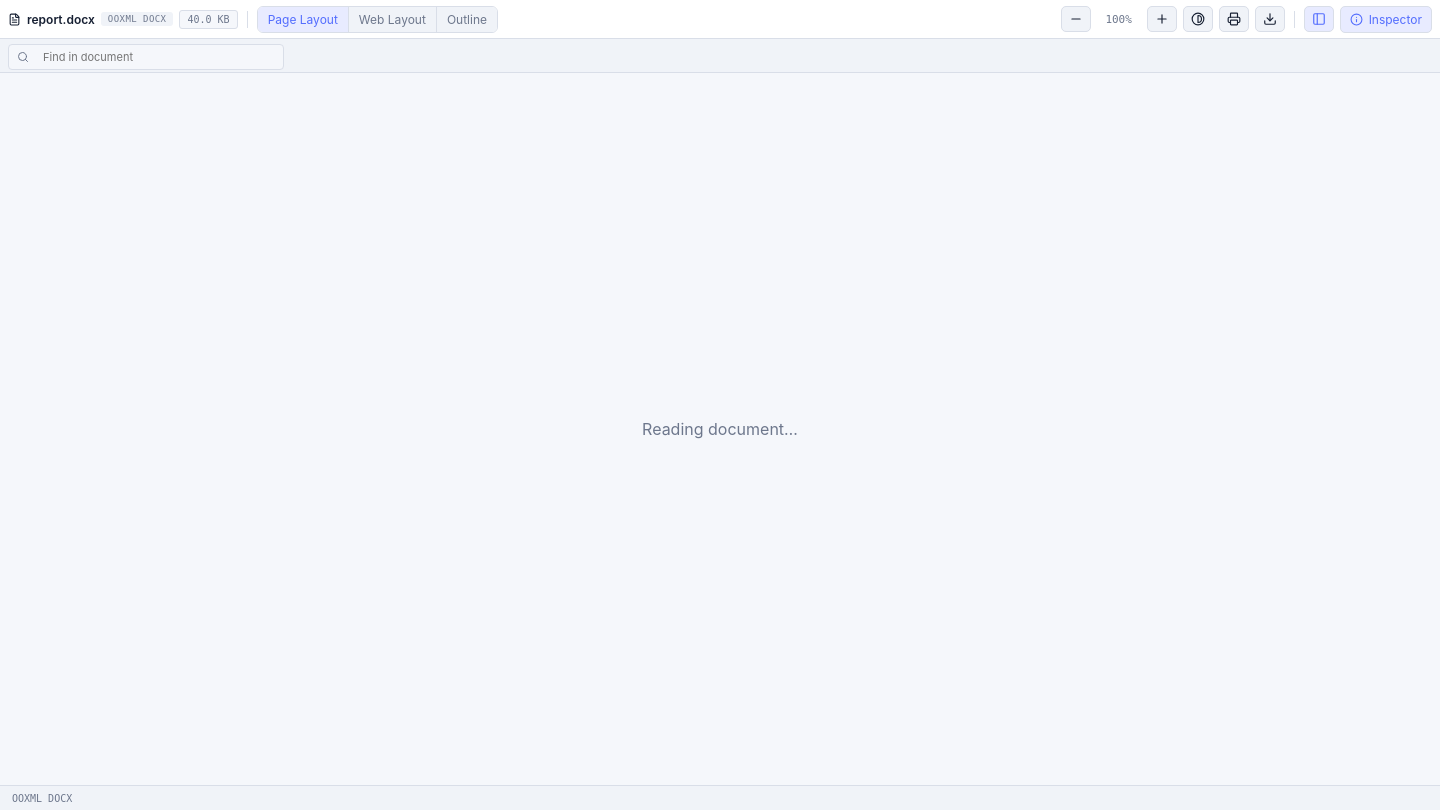
document viewer › switches to the outline layout and back to the page
The image size is (1440, 810).
Click the button "Outline" at coordinates (466, 19), box [436, 6, 497, 32]
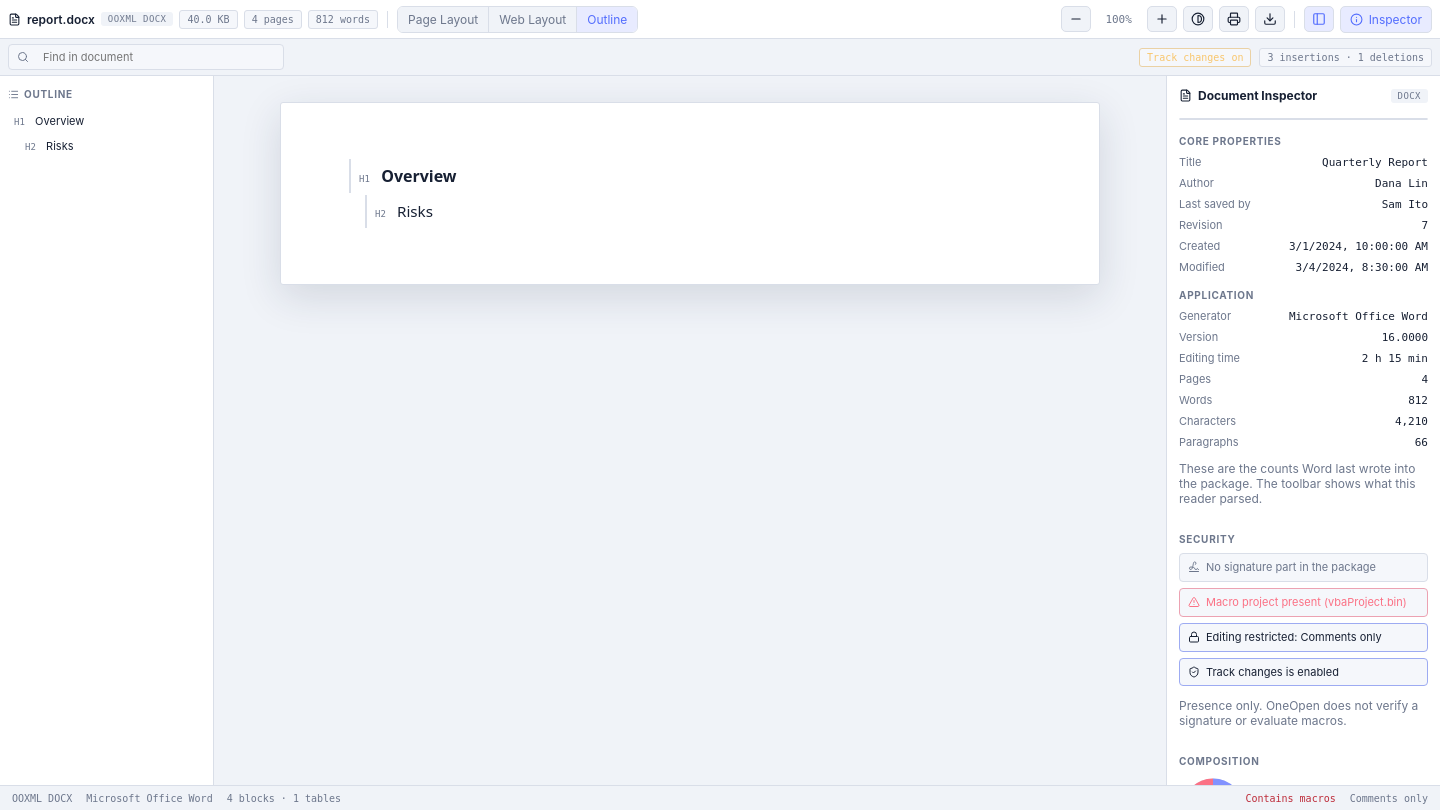
expect the text "Revenue grew." is not shown: met
Click the button "Page Layout" at coordinates (443, 19), box [398, 6, 488, 32]
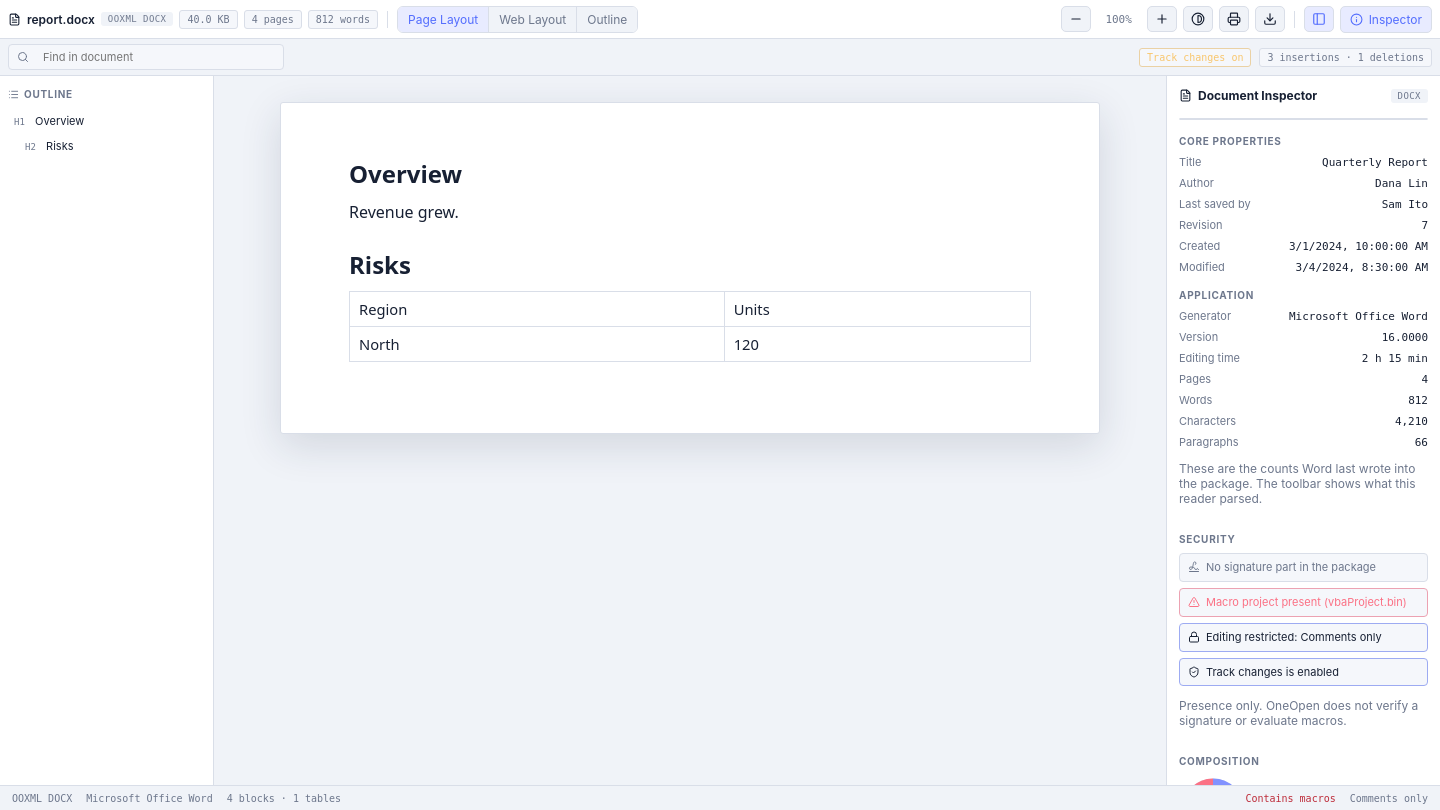
expect the text "Revenue grew." is shown: met, box [349, 201, 459, 223]
